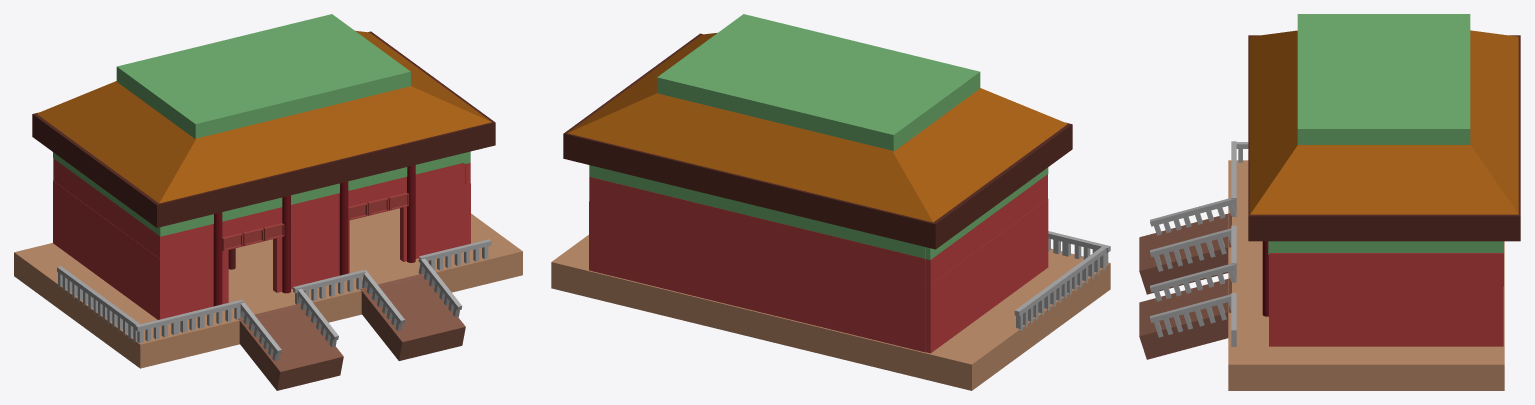
Rendered from temple.glb.
3 views of the same model, side by side, from view 1: azimuth 30°, elevation 25°; view 2: azimuth 150°, elevation 25°; view 3: azimuth 270°, elevation 25° (orthographic). The views are drawn at different scales.
Parts seen in each view (by area): view 1: Cube.006, Cube.007, CSGBox3D2, CSGBox3D2.002, CSGBox3D32, Cube.009, Cube.002, CSGBox3D23.003, CSGBox3D2.001, CSGBox3D62, CSGBox3D52, CSGBox3D72 (+19 smaller); view 2: Cube.006, Cube.007, CSGBox3D23, CSGBox3D2, CSGBox3D23.004, CSGBox3D2.002, CSGBox3D32, CSGBox3D2.001, CSGBox3D23.001, CSGBox3D23.008, Cube.014, Cube.013 (+2 smaller); view 3: Cube.006, Cube.007, CSGBox3D2, CSGBox3D42, CSGBox3D2.002, CSGBox3D23.007, Cube.009, Cube.002, CSGBox3D2.001, CSGBox3D23.009, Cube.011, Cube (+3 smaller).
Part boxes in pixels (<box>): Cube.006: <box>37,30,491,203</box>; Cube.007: <box>116,14,410,138</box>; CSGBox3D2: <box>14,208,522,368</box>; CSGBox3D2.002: <box>32,31,495,227</box>; CSGBox3D32: <box>53,181,166,319</box>; Cube.009: <box>360,273,465,360</box>; Cube.002: <box>238,303,343,390</box>; CSGBox3D23.003: <box>165,163,465,257</box>; CSGBox3D2.001: <box>32,126,495,226</box>; CSGBox3D62: <box>273,215,349,292</box>; CSGBox3D52: <box>400,185,464,261</box>; CSGBox3D72: <box>166,246,228,317</box>; Cube.006: <box>567,32,1067,222</box>; Cube.007: <box>657,14,980,151</box>; CSGBox3D23: <box>589,210,925,352</box>; CSGBox3D2: <box>551,235,1110,390</box>; CSGBox3D23.004: <box>589,177,925,292</box>; CSGBox3D2.002: <box>563,33,1072,249</box>; CSGBox3D32: <box>926,199,1048,353</box>; CSGBox3D2.001: <box>563,138,1072,248</box>; CSGBox3D23.001: <box>589,165,925,260</box>; CSGBox3D23.008: <box>926,174,1047,284</box>; Cube.014: <box>1014,278,1063,331</box>; Cube.013: <box>1059,246,1106,299</box>; Cube.006: <box>1250,30,1518,214</box>; Cube.007: <box>1297,14,1470,144</box>; CSGBox3D2: <box>1228,160,1504,390</box>; CSGBox3D42: <box>1269,278,1503,346</box>; CSGBox3D2.002: <box>1248,35,1520,241</box>; CSGBox3D23.007: <box>1269,253,1502,277</box>; Cube.009: <box>1139,278,1231,359</box>; Cube.002: <box>1139,213,1231,294</box>; CSGBox3D2.001: <box>1248,229,1520,240</box>; CSGBox3D23.009: <box>1268,241,1495,254</box>; Cube.011: <box>1150,294,1231,337</box>; Cube: <box>1150,228,1231,271</box>.
Size of the model in its own units: 35.11 by 19.18 by 27.61.
